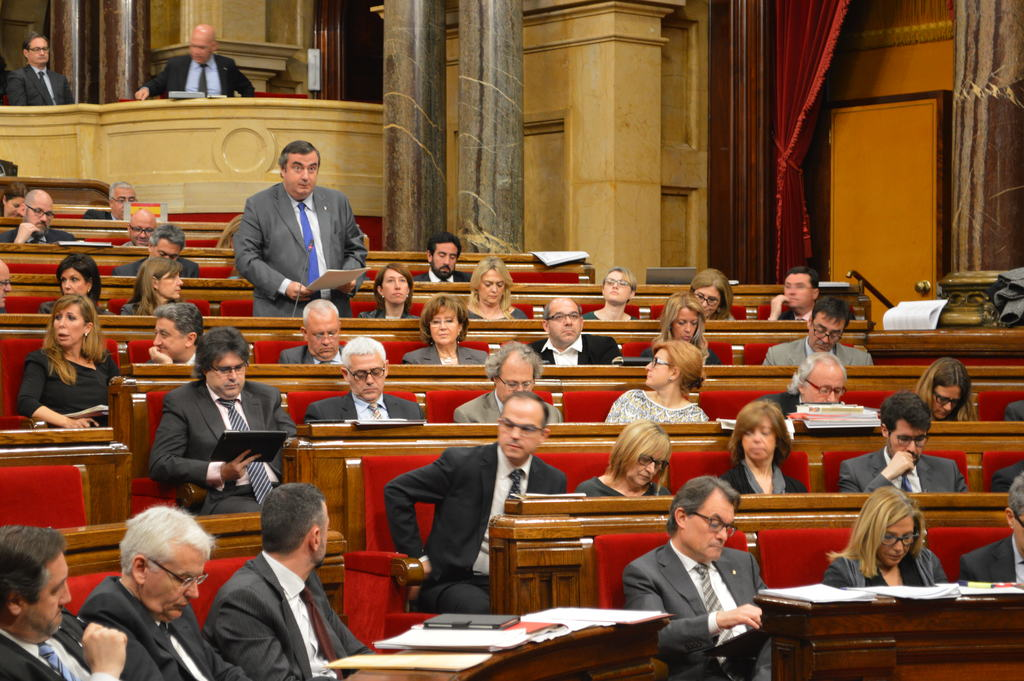Person: (0, 24, 1024, 680)
